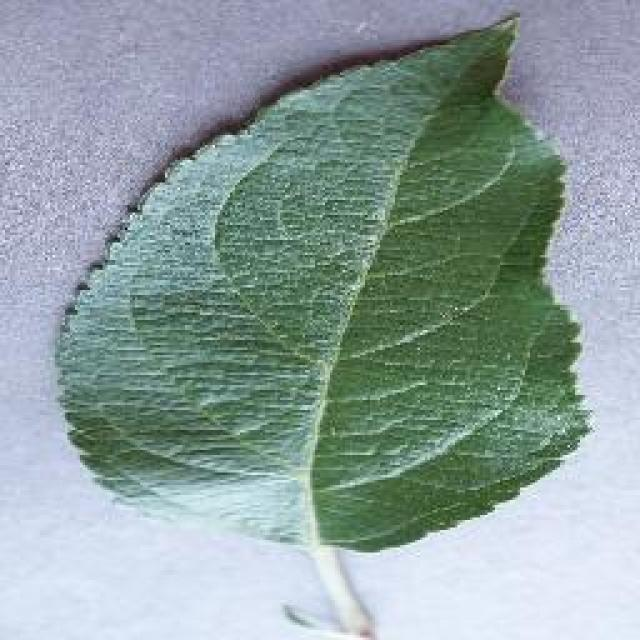apple healthy: (50, 8, 592, 638)
